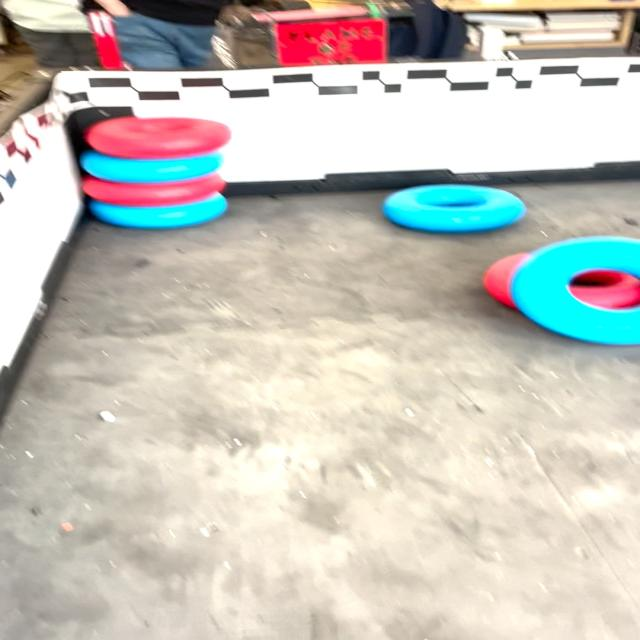Blue-Ring: (511, 236, 640, 344), (382, 185, 527, 232), (89, 194, 227, 229), (80, 150, 222, 184)
Red-Ring: (84, 118, 231, 159), (82, 172, 227, 206), (567, 269, 640, 309), (482, 252, 531, 309)
